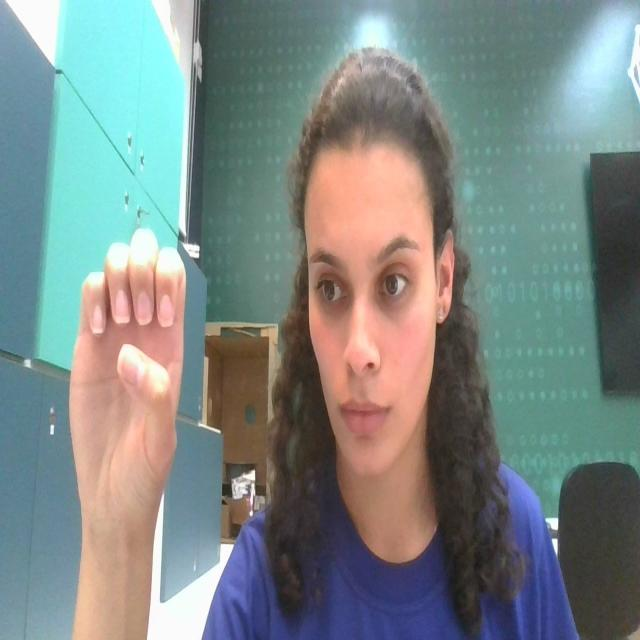E: (63, 218, 195, 553)
